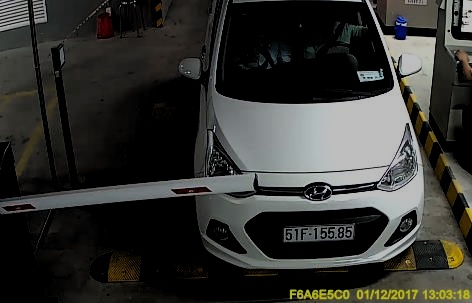plate: (282, 221, 354, 240)
